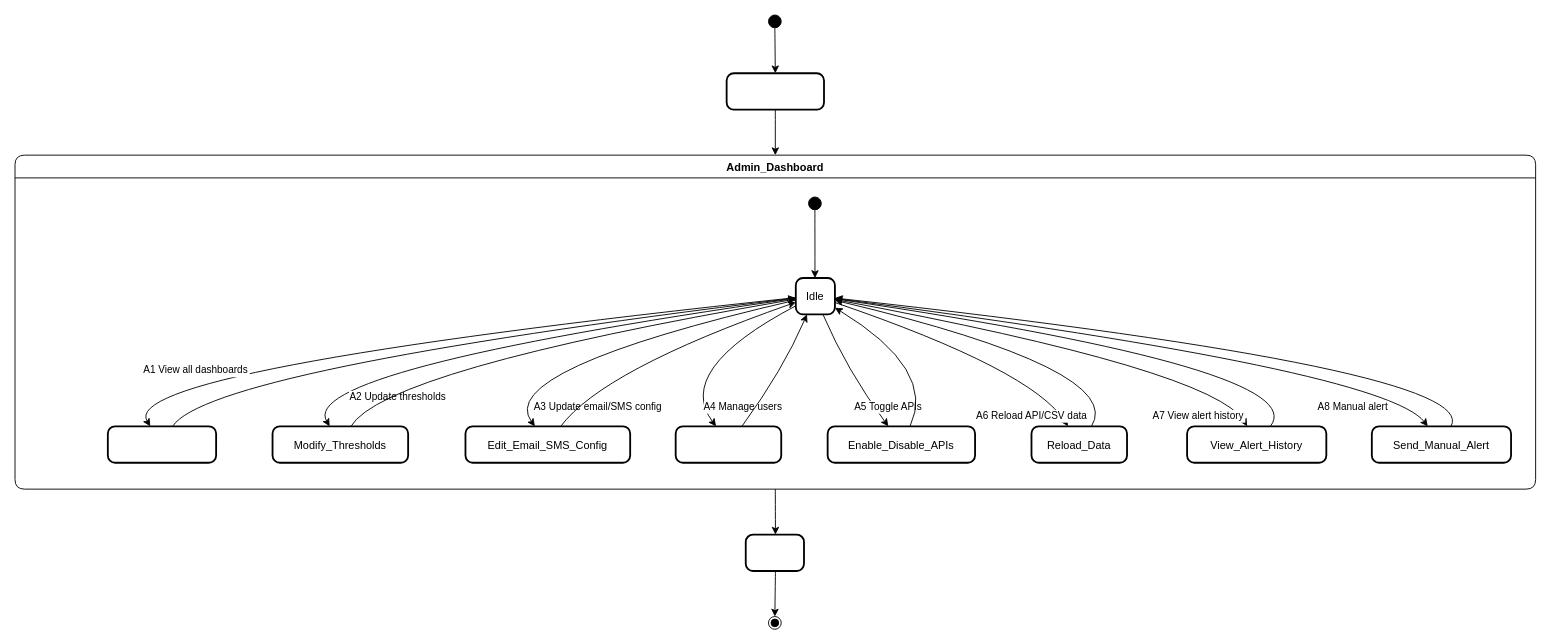
This 1551x644 diagram has some shape labels left out. The centre of each missing label's shape, as x and y in pixels:
"Admin_Login" goes at pixel 774 91.
"Logout" goes at pixel 774 552.
"Manage_Users" goes at pixel 728 444.
"View_All_Data" goes at pixel 161 444.
